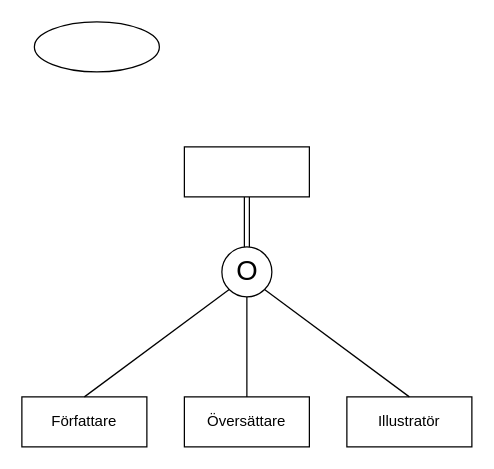
This 494x469 diagram has some shape labels left out. Each missing label, with the centre of its shape:
"Kön" belongs at pixel 96 46.
"Upphovsman" belongs at pixel 246 171.
